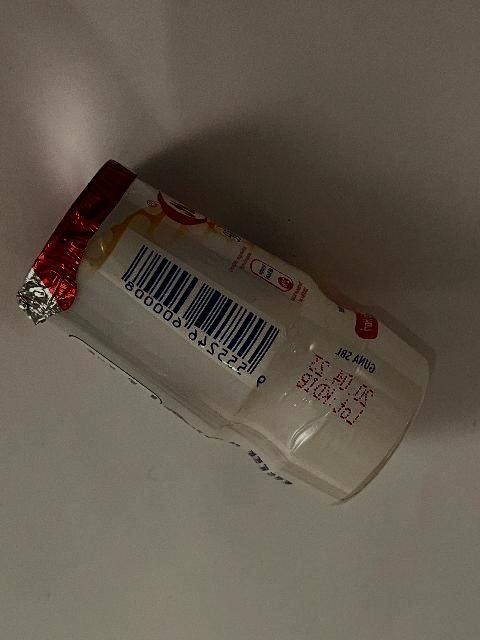plasticbottle: (16, 156, 432, 510)
